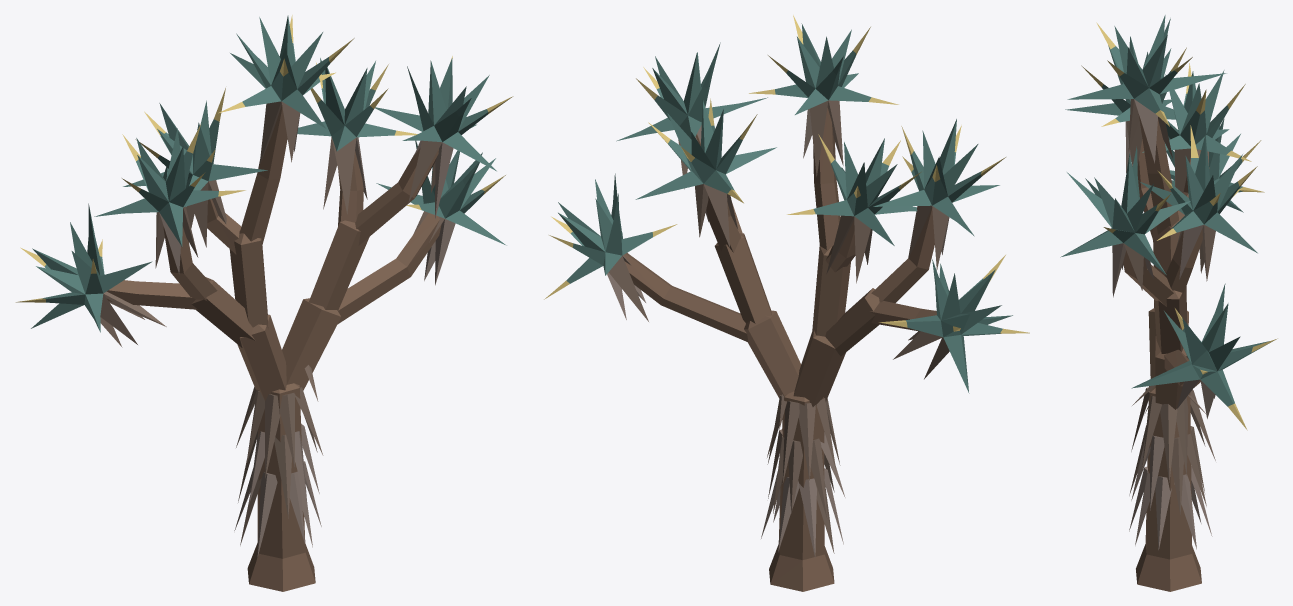
Rendered from joshua-tree-867a2c.glb.
3 views of the same model, side by side, from view 1: azimuth 30°, elevation 25°; view 2: azimuth 150°, elevation 25°; view 3: azimuth 270°, elevation 25° (orthographic). The views are drawn at different scales.
Visible parts, largest first — view 1: joshua-tree-mesh; view 2: joshua-tree-mesh; view 3: joshua-tree-mesh.
Boxes of the visible parts, x1=… form: joshua-tree-mesh: x1=15, y1=15, x2=513, y2=591; joshua-tree-mesh: x1=544, y1=15, x2=1029, y2=591; joshua-tree-mesh: x1=1060, y1=15, x2=1277, y2=591.
Bounding box in the file's own units: 5.51 × 6 × 2.16.
